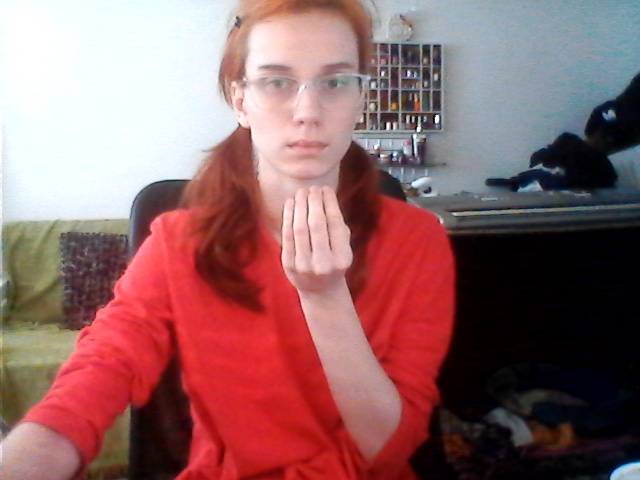c: (271, 152, 359, 277)
